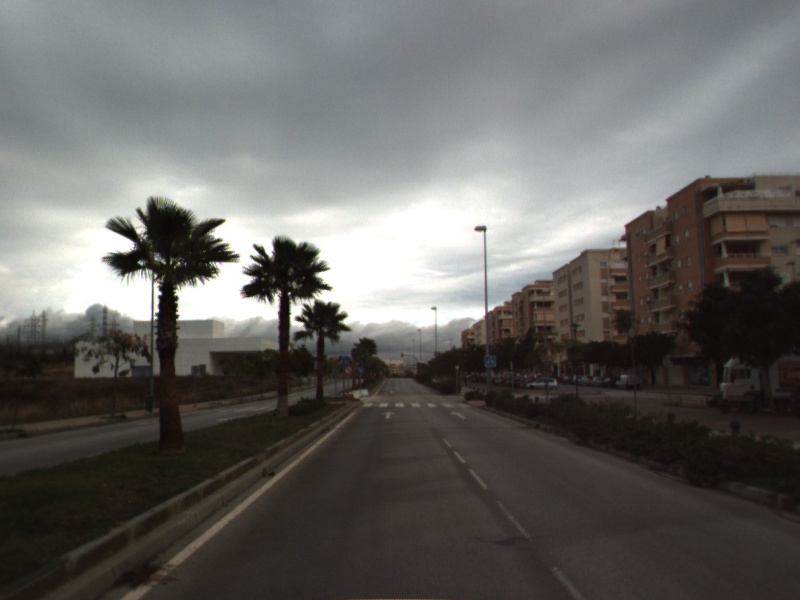STRAIGHT: (448, 409, 469, 421), (380, 409, 397, 421)
